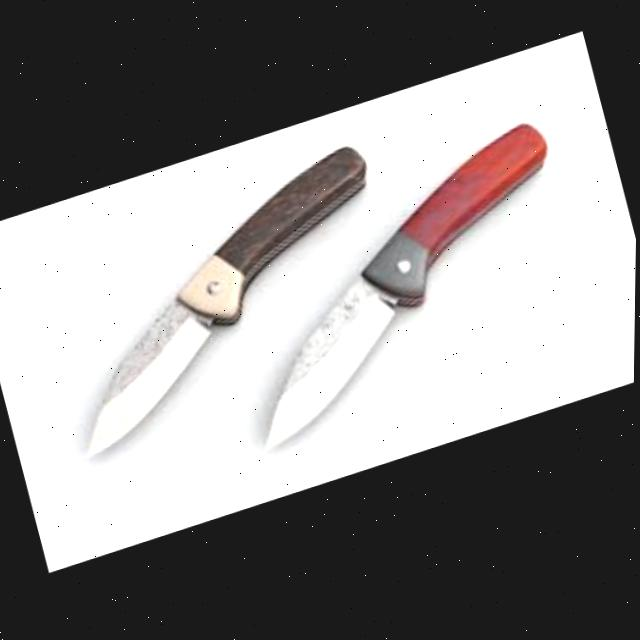knife: (203, 119, 601, 458), (30, 138, 418, 461)
